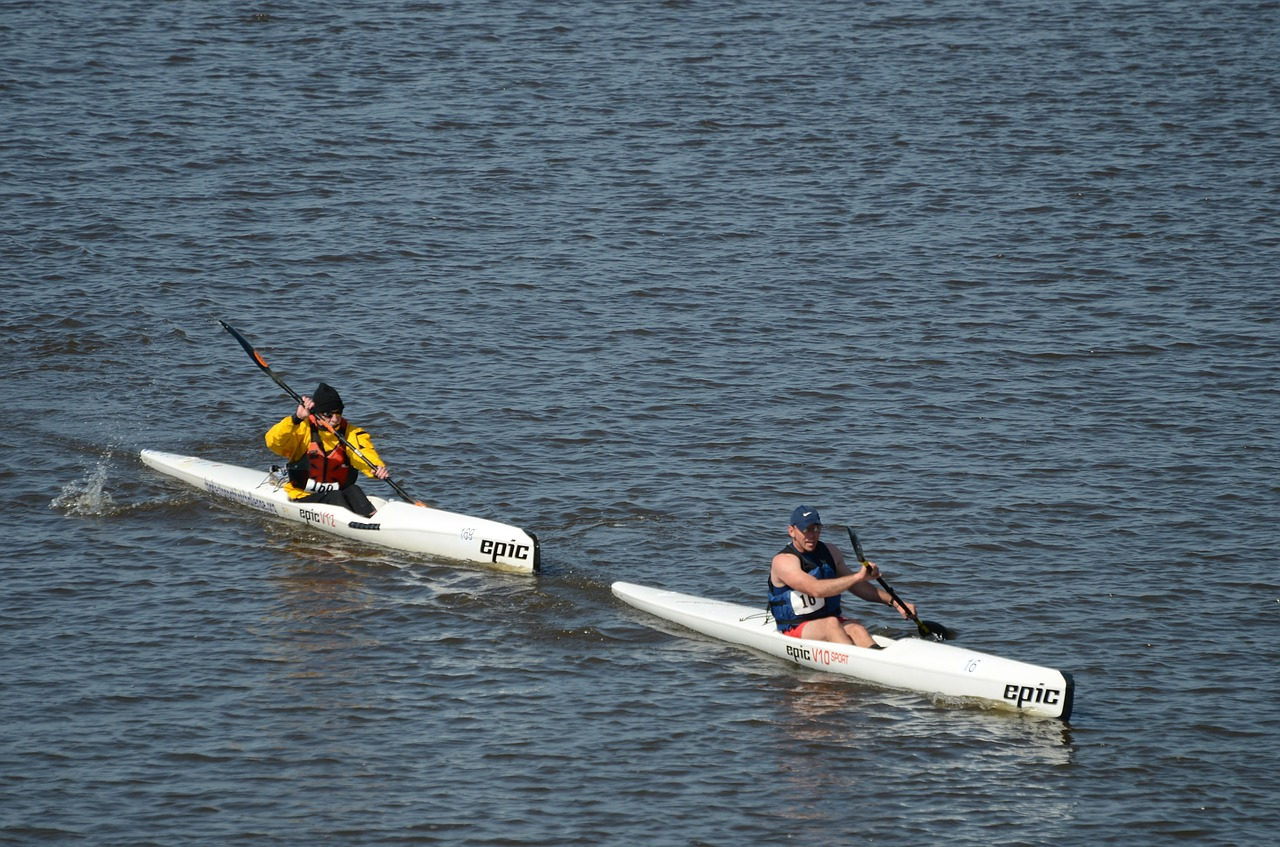kayak: (607, 577, 1077, 719), (137, 441, 543, 577)
